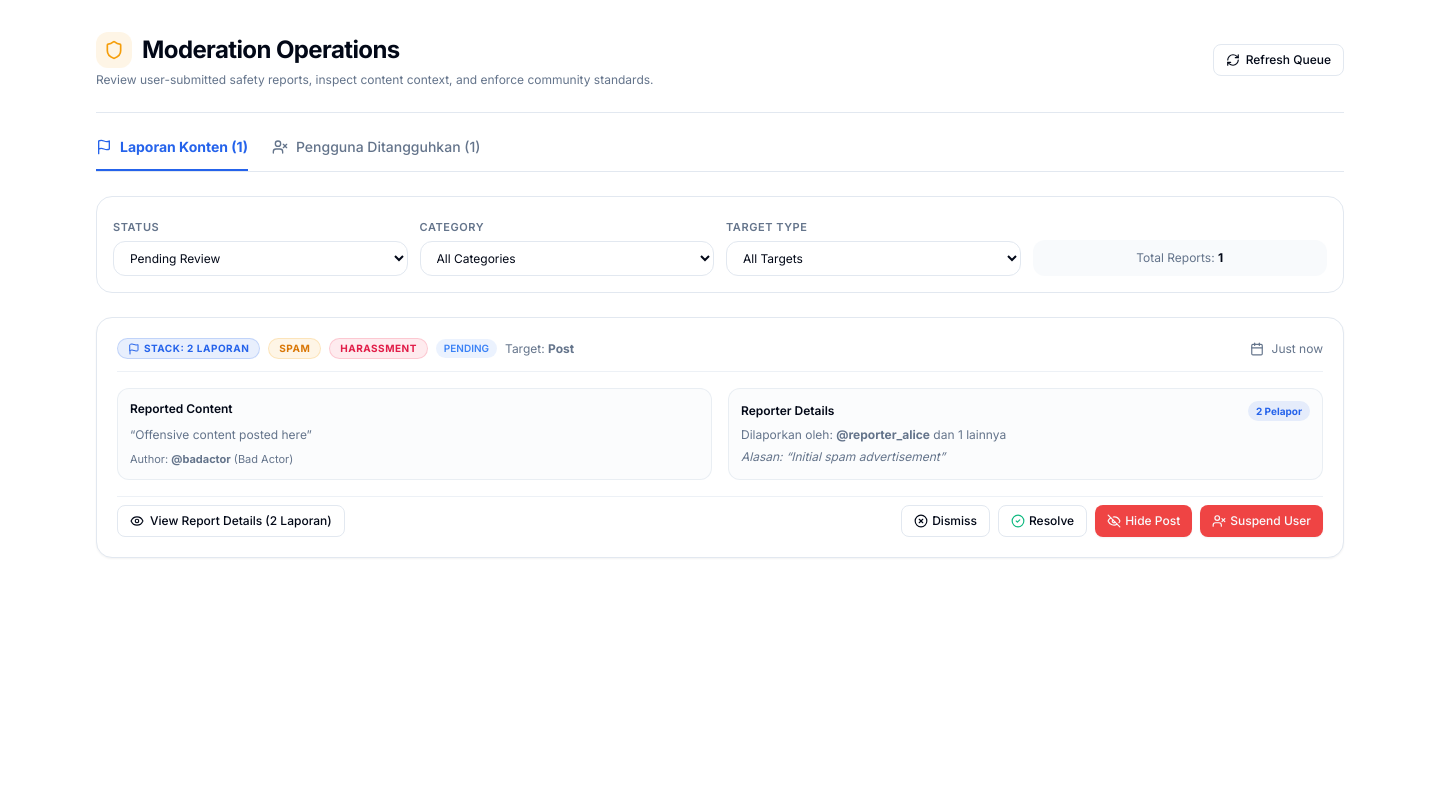
Test case: Moderation Dashboard Page (/admin/moderation) › should render stacked reports with multiple reporters and inspect them in modal
The width and height of the screenshot is (1440, 810).
Expected: the text "Stack: 2 Laporan" is shown, [117,338,260,359]
Expected: the text "2 Pelapor" is shown, [1248,401,1310,421]
// Open review modal
Step 1. Click the button "View Report Details (2 Laporan)" → (231, 520), box [117,504,345,536]
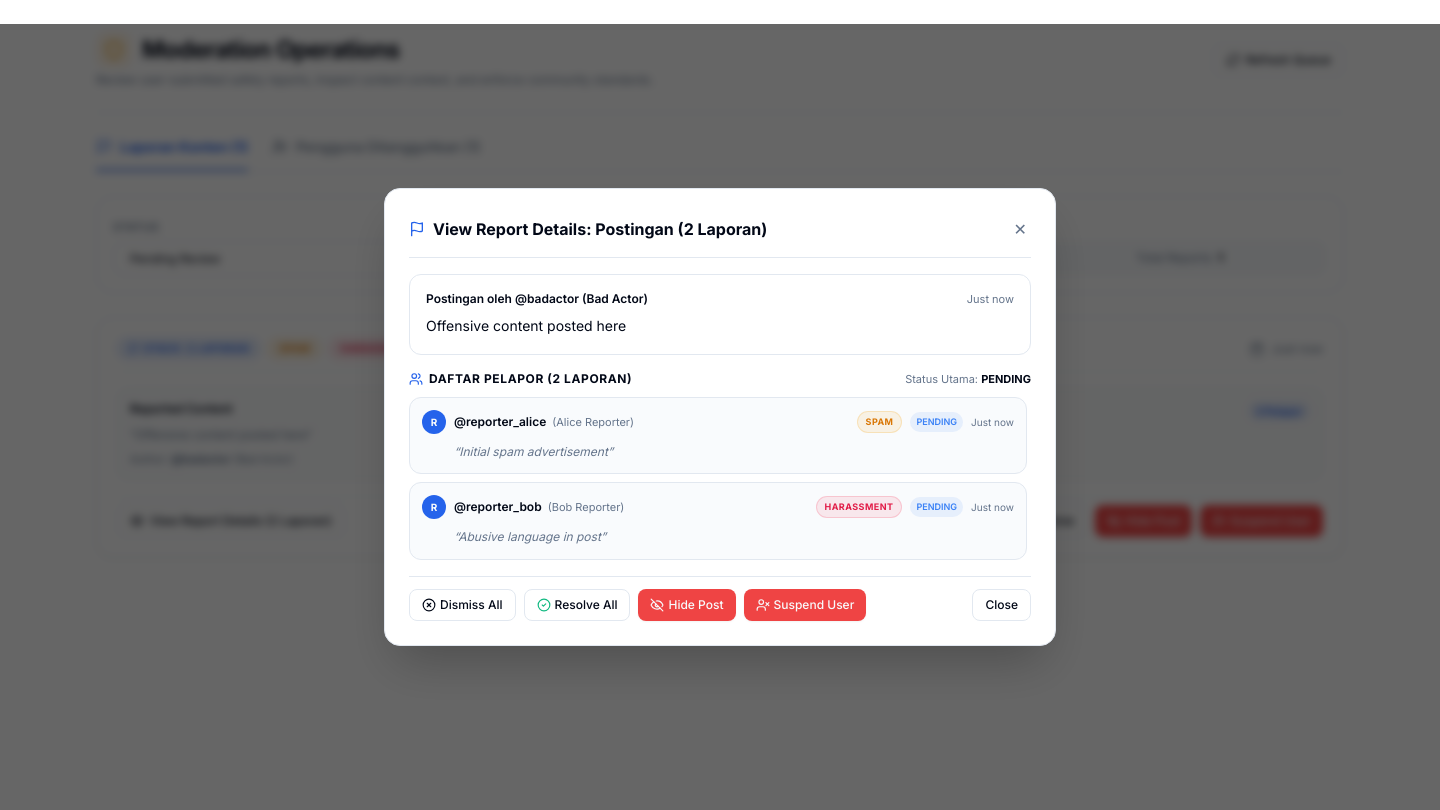
Expected: the text "Daftar Pelapor (2 Laporan)" is shown, [429,371,632,387]
Expected: the text "@reporter_bob" is shown, [454,499,542,514]
Expected: the text "“Abusive language in post”" is shown, [454,529,606,544]
